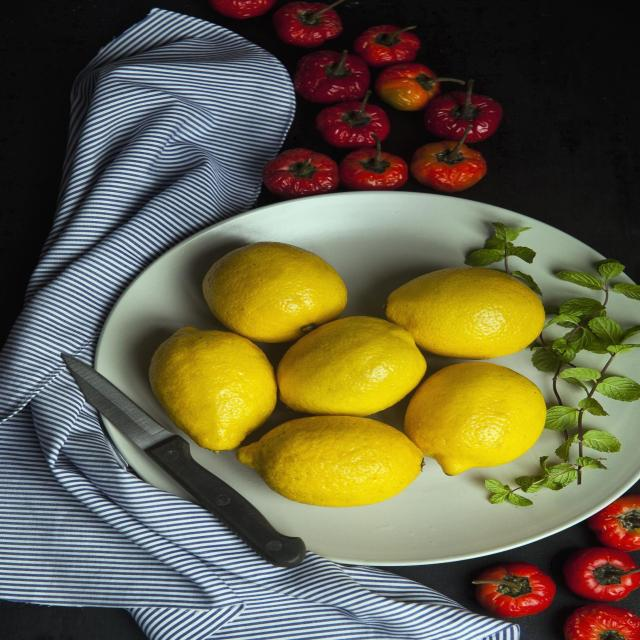lemon: (379, 266, 546, 361)
